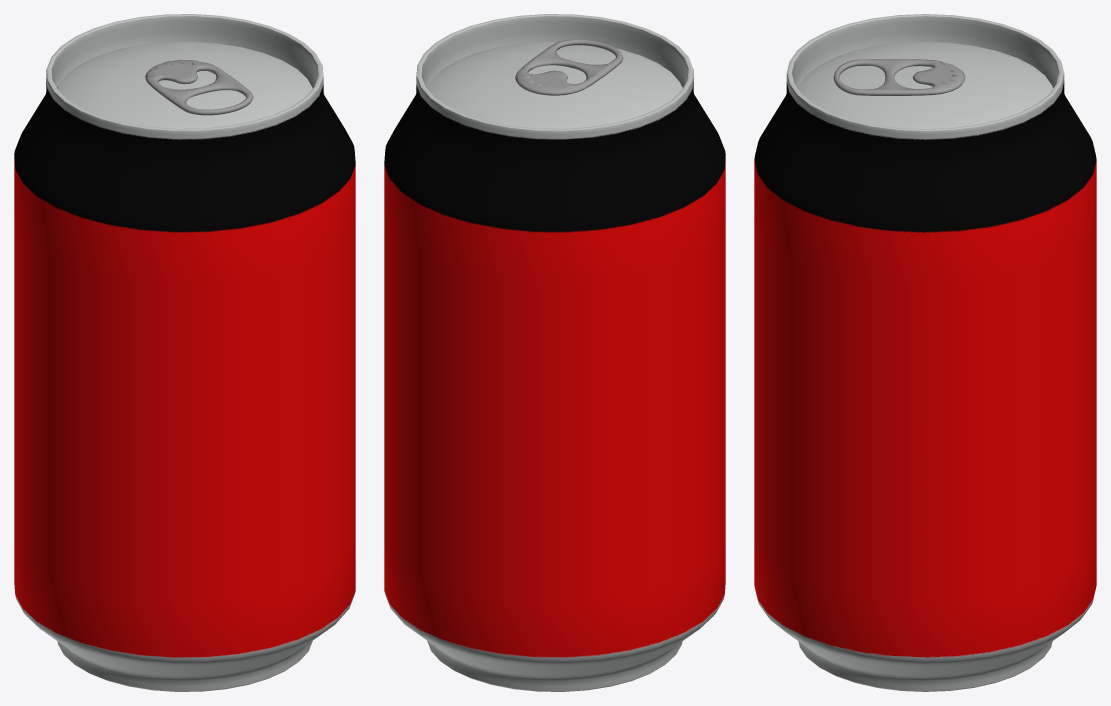
Rendered from BeverageCanTextured.fbx.
3 views of the same model, side by side, from view 1: azimuth 30°, elevation 25°; view 2: azimuth 150°, elevation 25°; view 3: azimuth 270°, elevation 25° (orthographic).
Parts seen in each view (by area): view 1: Cylinder002, Object001; view 2: Cylinder002, Object001; view 3: Cylinder002, Object001.
Part boxes in pixels (bbox=[...]): Cylinder002: bbox=[14, 14, 355, 691]; Object001: bbox=[145, 59, 253, 115]; Cylinder002: bbox=[384, 14, 725, 691]; Object001: bbox=[515, 39, 623, 95]; Cylinder002: bbox=[754, 14, 1096, 691]; Object001: bbox=[833, 59, 965, 95].
Bounding box in the file's own units: 0.9883 × 1.8 × 0.9883.
